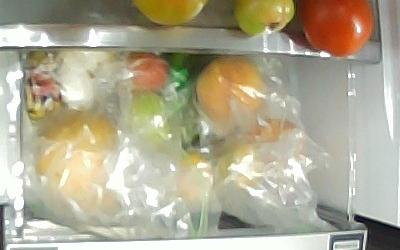peach_vinyl: (195, 56, 267, 124), (248, 119, 305, 158)
pear_vinyl: (37, 112, 119, 218)
tangerine_vinyl: (215, 144, 266, 193), (176, 152, 217, 209)
tomato_vinyl: (127, 90, 169, 155), (128, 53, 171, 91)
